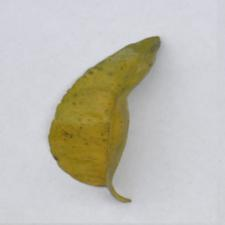Greening: (66, 33, 125, 166)
